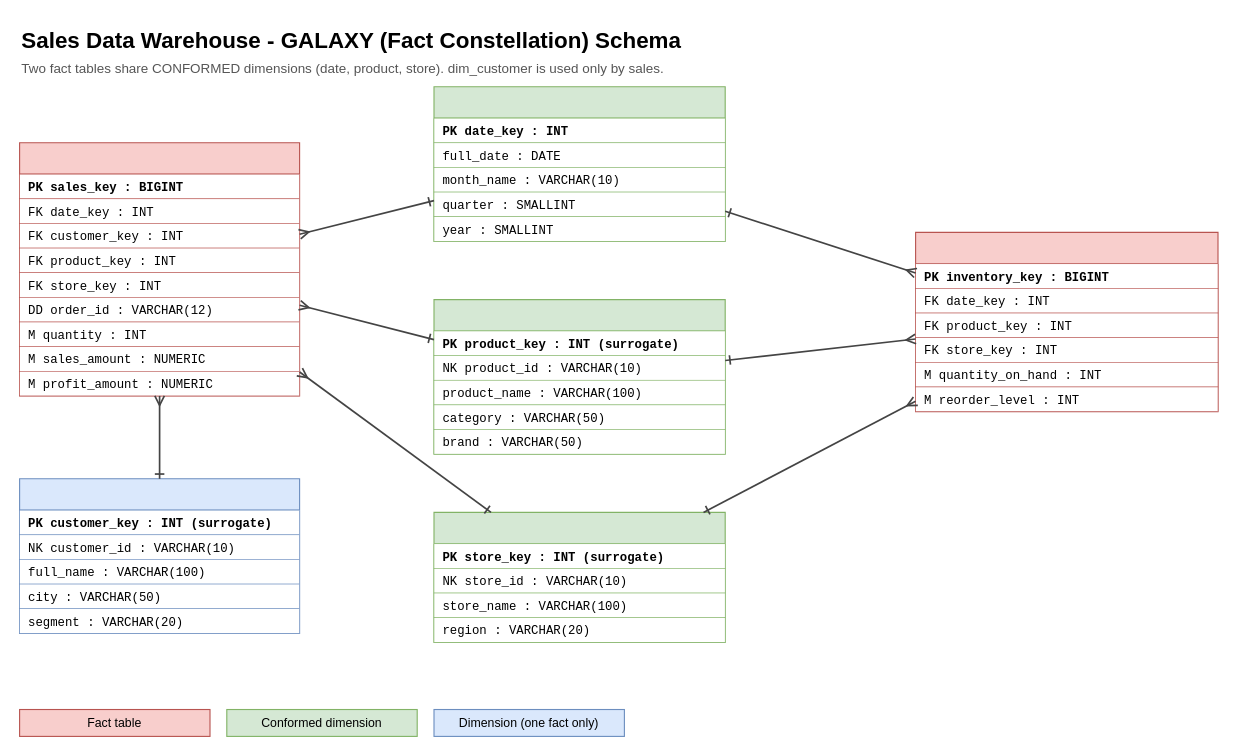
Some shapes in this 1238 by 756 pixel diagram are drawn without their labels. Each missing label, with the box of its shape:
dw.dim_customer: (18, 478, 300, 633)
dw.dim_date (CONFORMED): (433, 86, 725, 241)
dw.dim_product (CONFORMED): (433, 298, 725, 454)
dw.dim_store (CONFORMED): (433, 511, 725, 642)
dw.fact_inventory (periodic snapshot fact): (914, 231, 1218, 412)
dw.fact_sales (transaction fact): (18, 142, 300, 396)
